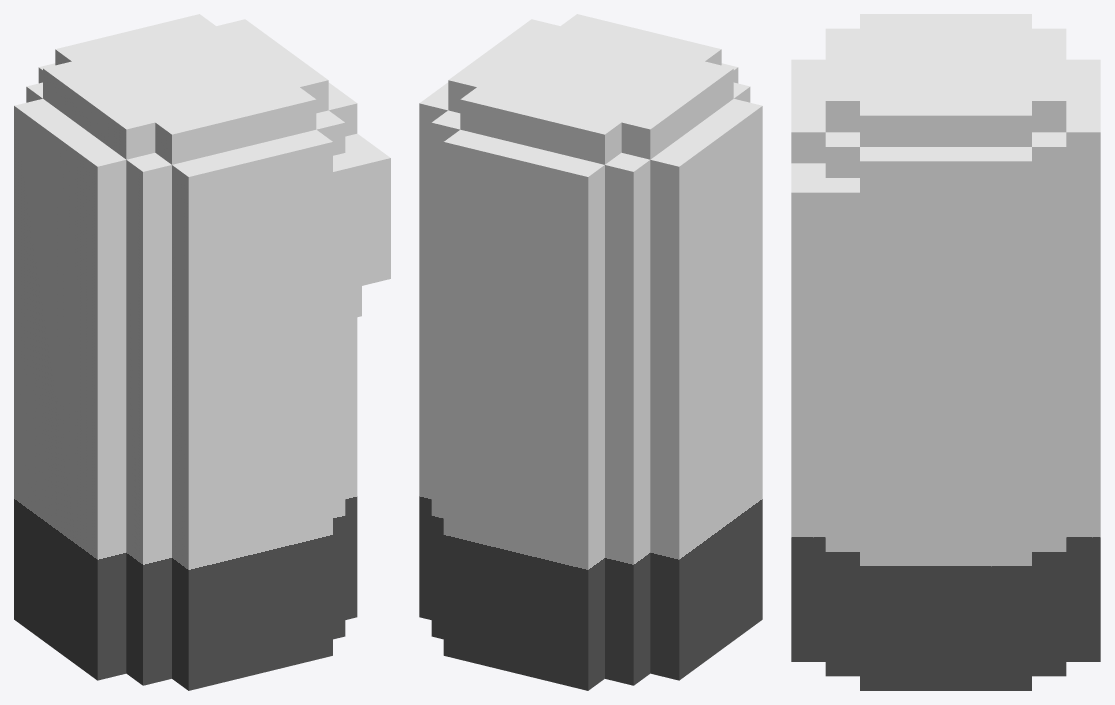
The model's file is noga_1.dae.
The picture shows the model from 3 angles, left to right: view 1: azimuth 30°, elevation 25°; view 2: azimuth 150°, elevation 25°; view 3: azimuth 270°, elevation 25°; orthographic projection. The views are drawn at different scales.
Visible parts, largest first — view 1: Content; view 2: Content; view 3: Content.
Part boxes in pixels (x1,y1,x2,y2): Content: (14, 14, 390, 690); Content: (419, 14, 762, 690); Content: (791, 14, 1100, 690).
Bounding box in the file's own units: 9 × 18 × 9.
Materials: 1 (1 with a texture image).
